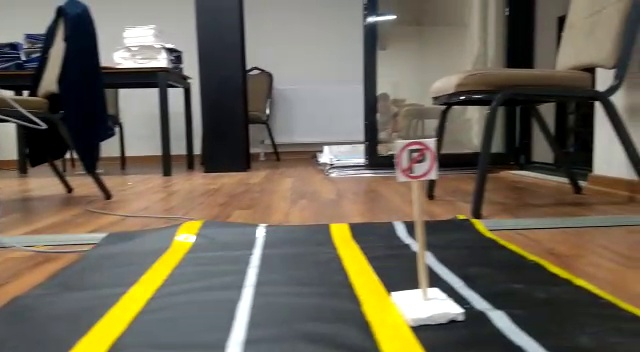park_yapilmaz: (396, 140, 439, 181)
